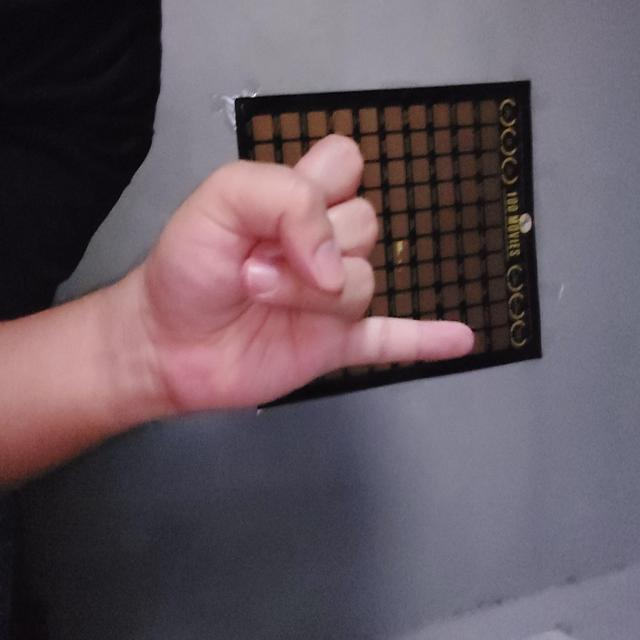I: (132, 163, 417, 496)
